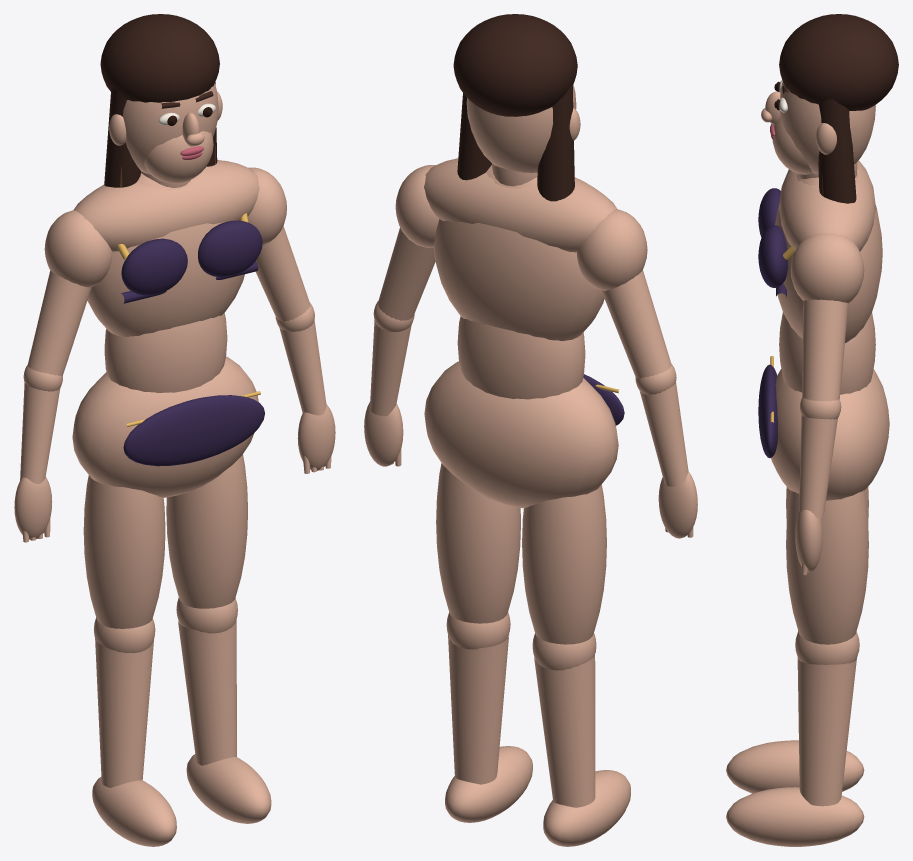
The model's file is woman-base-character-1.glb.
3 renders of one model, left to right at view 1: azimuth 30°, elevation 25°; view 2: azimuth 150°, elevation 25°; view 3: azimuth 270°, elevation 25°, orthographic. The views are drawn at different scales.
Visible parts, largest first — view 1: Upper leg (×2), Lower leg (×2), Pelvis, Shoulders, Hair cap, Foot (×2), Torso, Waist, Fashion briefs, Upper arm (×2), Bra cup (×2), Shoulder joint (×2) (+7 smaller); view 2: Upper leg (×2), Pelvis, Torso, Lower leg (×2), Hair cap, Shoulders, Waist, Foot (×2), Upper arm (×2), Shoulder joint (×2), Forearm (×2), Long hair (×2) (+4 smaller); view 3: Foot (×2), Upper leg, Hair cap, Pelvis, Lower leg, Shoulders, Shoulder joint, Upper arm, Torso, Waist, Head, Forearm (+8 smaller).
Boxes of the visible parts, left/top/right/bottom form: Upper leg (×2): left=83, top=454, right=247, bottom=628; Lower leg (×2): left=95, top=620, right=236, bottom=787; Pelvis: left=72, top=356, right=258, bottom=497; Shoulders: left=73, top=160, right=259, bottom=251; Hair cap: left=100, top=14, right=219, bottom=102; Foot (×2): left=92, top=754, right=271, bottom=846; Torso: left=87, top=172, right=244, bottom=336; Waist: left=104, top=313, right=227, bottom=392; Fashion briefs: left=123, top=395, right=264, bottom=466; Upper arm (×2): left=27, top=226, right=310, bottom=375; Bra cup (×2): left=121, top=220, right=262, bottom=295; Shoulder joint (×2): left=44, top=167, right=286, bottom=287; Upper leg (×2): left=436, top=463, right=606, bottom=644; Pelvis: left=424, top=361, right=618, bottom=508; Torso: left=434, top=165, right=604, bottom=341; Lower leg (×2): left=448, top=634, right=595, bottom=807; Hair cap: left=453, top=14, right=577, bottom=116; Shoulders: left=424, top=158, right=617, bottom=252; Waist: left=457, top=316, right=585, bottom=399; Foot (×2): left=445, top=746, right=630, bottom=846; Upper arm (×2): left=377, top=227, right=671, bottom=378; Shoulder joint (×2): left=395, top=165, right=647, bottom=290; Forearm (×2): left=370, top=320, right=688, bottom=486; Long hair (×2): left=457, top=85, right=574, bottom=201; Foot (×2): left=726, top=740, right=864, bottom=846; Upper leg: left=786, top=490, right=868, bottom=644; Hair cap: left=779, top=14, right=898, bottom=110; Pelvis: left=771, top=369, right=889, bottom=500; Lower leg: left=797, top=657, right=856, bottom=806; Shoulders: left=779, top=160, right=875, bottom=251; Shoulder joint: left=790, top=233, right=864, bottom=303; Upper arm: left=802, top=299, right=848, bottom=401; Torso: left=775, top=172, right=882, bottom=342; Waist: left=779, top=312, right=875, bottom=394; Head: left=780, top=81, right=875, bottom=174; Forearm: left=799, top=415, right=837, bottom=518.
Size of the model in its own units: 0.81 by 1.91 by 0.375.
